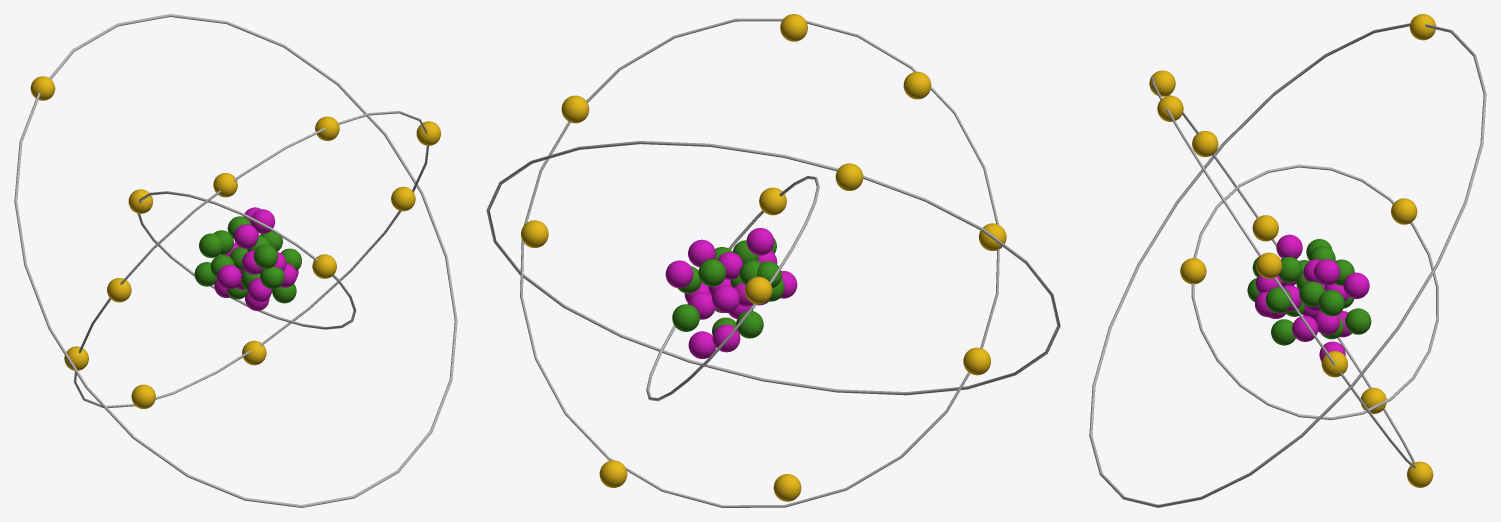
Rendered from sodium.fbx.
The picture shows the model from 3 angles, left to right: view 1: azimuth 30°, elevation 25°; view 2: azimuth 150°, elevation 25°; view 3: azimuth 270°, elevation 25°; orthographic projection. The views are drawn at different scales.
Parts seen in each view (by area): view 1: Torus1, Torus2, Torus, Sphere40, Sphere25, Sphere38, Sphere23; view 2: Torus1, Torus2, Torus, Sphere23, Sphere19, Sphere52, Sphere35, Sphere14, Sphere17, Sphere40, Sphere45; view 3: Torus1, Torus, Torus2, Sphere14, Sphere69, Sphere52, Sphere10, Sphere51, Sphere16, Sphere17, Sphere19, Sphere32 (+13 smaller).
Boxes of the visible parts, left/top/right/bottom form: Torus1: left=14, top=14, right=457, bottom=507; Torus2: left=73, top=111, right=428, bottom=408; Torus: left=137, top=191, right=356, bottom=329; Sphere40: left=234, top=224, right=258, bottom=248; Sphere25: left=391, top=186, right=415, bottom=211; Sphere38: left=217, top=265, right=241, bottom=289; Sphere23: left=131, top=384, right=155, bottom=408; Torus1: left=486, top=141, right=1060, bottom=395; Torus2: left=520, top=18, right=999, bottom=507; Torus: left=646, top=176, right=819, bottom=401; Sphere23: left=773, top=474, right=801, bottom=501; Sphere19: left=963, top=347, right=990, bottom=375; Sphere52: left=665, top=260, right=693, bottom=288; Sphere35: left=835, top=163, right=863, bottom=190; Sphere14: left=744, top=276, right=772, bottom=304; Sphere17: left=561, top=95, right=589, bottom=123; Sphere40: left=746, top=228, right=774, bottom=255; Sphere45: left=698, top=259, right=726, bottom=286; Torus1: left=1089, top=23, right=1486, bottom=507; Torus: left=1191, top=164, right=1438, bottom=420; Torus2: left=1151, top=77, right=1415, bottom=468; Sphere14: left=1391, top=198, right=1417, bottom=224; Sphere69: left=1318, top=290, right=1344, bottom=316; Sphere52: left=1343, top=272, right=1369, bottom=298; Sphere10: left=1345, top=308, right=1371, bottom=334; Sphere51: left=1314, top=259, right=1340, bottom=285; Sphere16: left=1180, top=258, right=1206, bottom=284; Sphere17: left=1256, top=252, right=1282, bottom=278; Sphere19: left=1252, top=215, right=1278, bottom=241; Sphere32: left=1192, top=131, right=1218, bottom=157.
Size of the model in its own units: 20.48 by 16.27 by 15.07.
